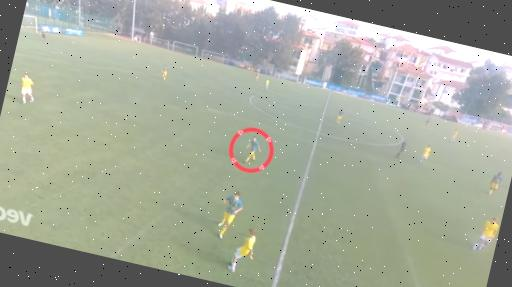highlight_overlay: (224, 123, 278, 177)
